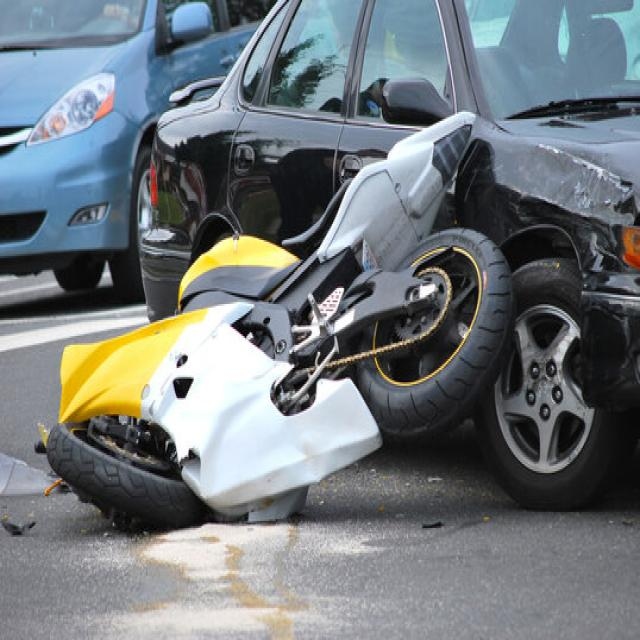accident: (50, 114, 514, 525)
car: (141, 0, 640, 507), (0, 0, 270, 299)
